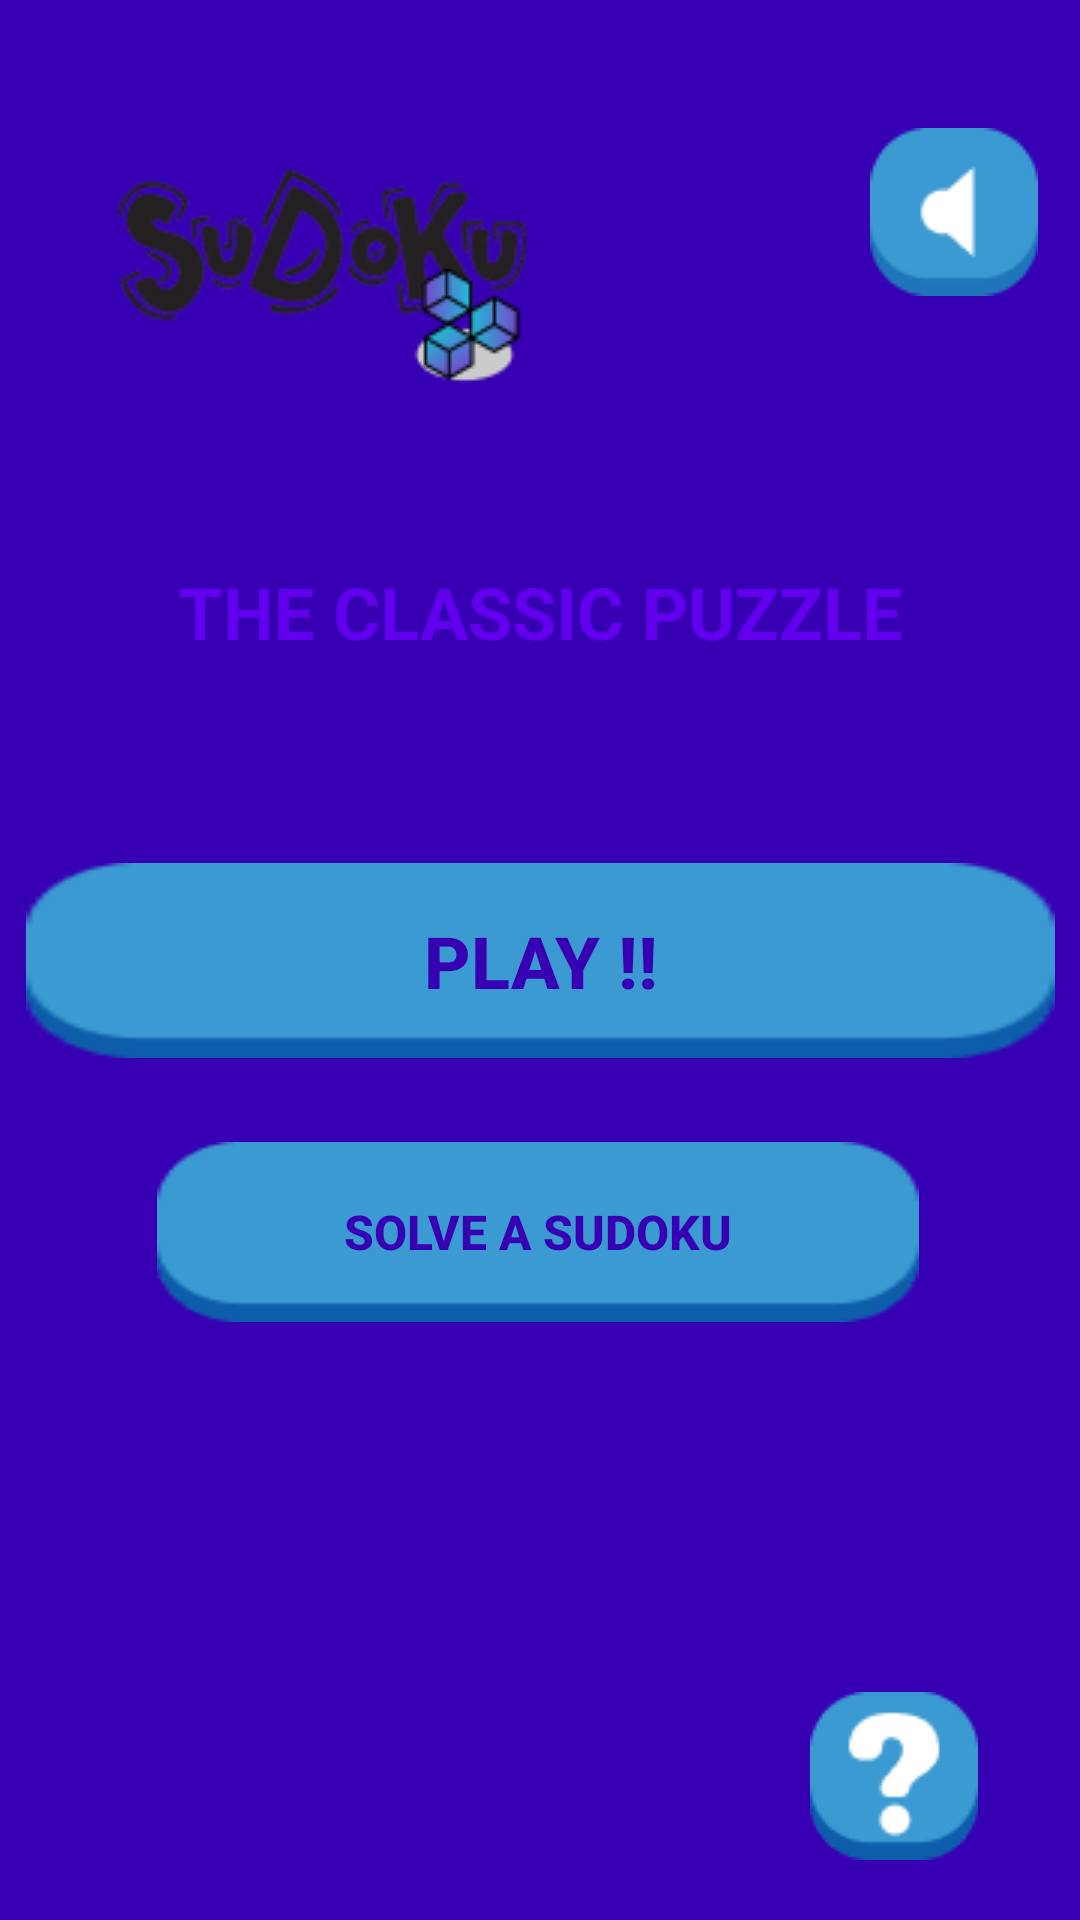

Named icons in this screenshot (1080×1920) and their centers, (x=x, y=y):
sound: (x=954, y=212)
